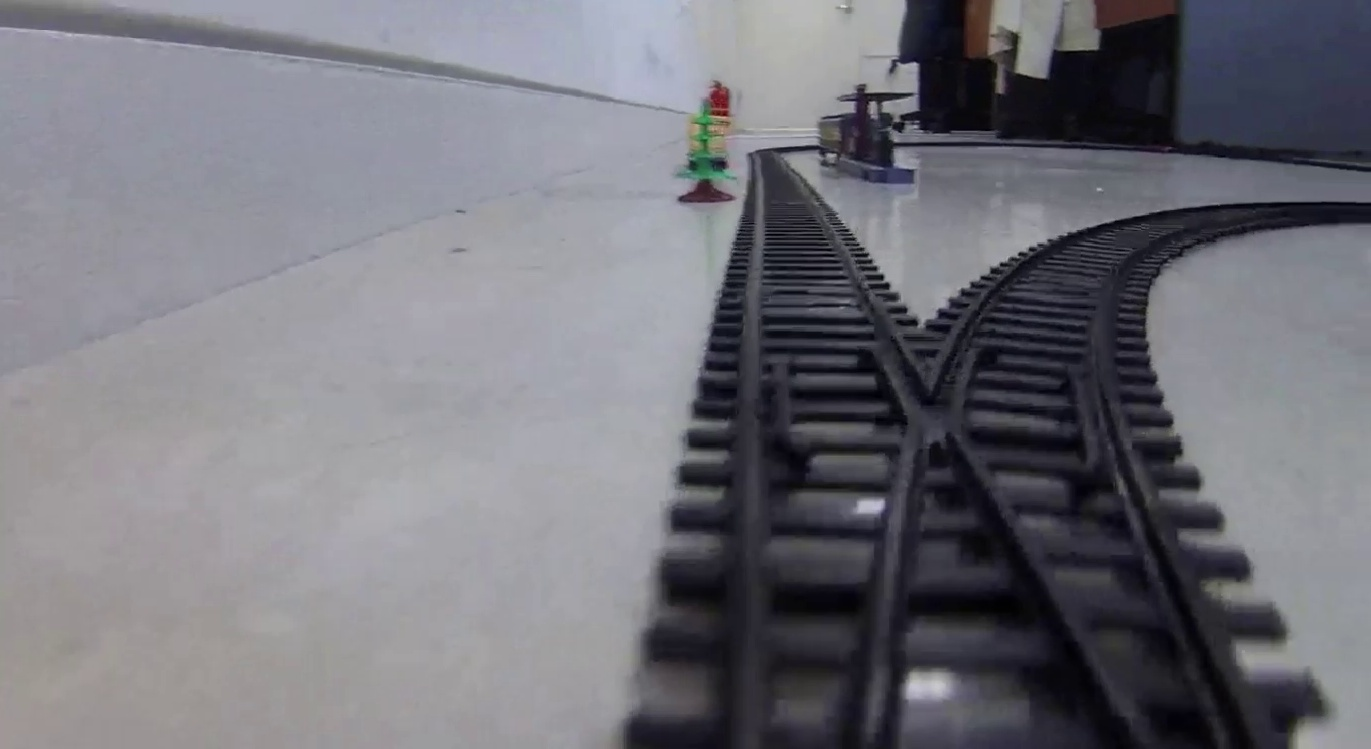tree: (672, 101, 737, 201)
